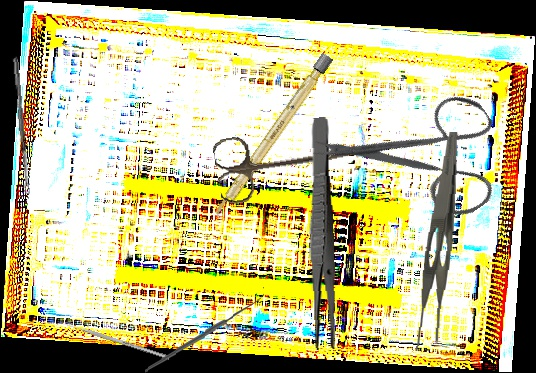Dressing Forceps: (412, 130, 459, 353), (304, 117, 338, 350)
Hook Surgical: (142, 287, 267, 373)
Iris Scissors: (308, 52, 529, 268), (211, 115, 366, 207)
Pusher: (59, 320, 170, 360)
Scalpel Handle: (210, 52, 334, 221)
Surgical Spoon: (11, 56, 31, 194)
